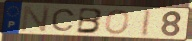8: (160, 10, 183, 38)
B: (75, 7, 105, 35)
C: (50, 8, 76, 32)
I: (139, 8, 153, 38)
N: (20, 5, 52, 33)
O: (104, 8, 131, 35)
